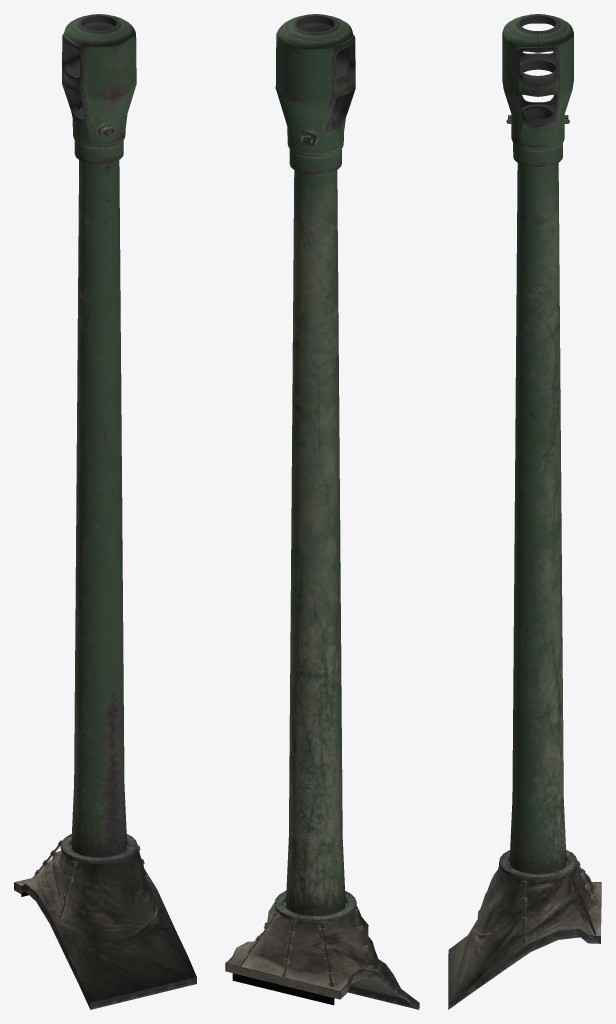
File: Gun_01.glb
3 views of the same model, side by side, from view 1: azimuth 30°, elevation 25°; view 2: azimuth 150°, elevation 25°; view 3: azimuth 270°, elevation 25° (orthographic). The views are drawn at different scales.
Parts seen in each view (by area): view 1: set_0_group_0; view 2: set_0_group_0; view 3: set_0_group_0.
Part boxes in pixels (x1=…): set_0_group_0: x1=14, y1=14, x2=196, y2=1009; set_0_group_0: x1=225, y1=14, x2=419, y2=1009; set_0_group_0: x1=448, y1=14, x2=601, y2=1009.
Size of the model in its own units: 0.536 by 4.47 by 0.6467.
1 material, 1 textured.
